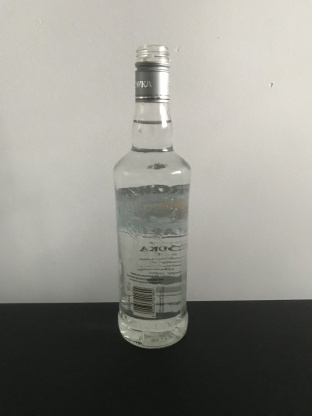nakretka: (133, 43, 172, 103)
